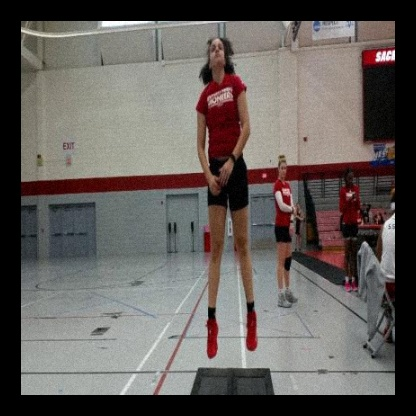lateral_flexion_right: (195, 36, 259, 360)
stance_width_normal: (196, 72, 259, 360)
